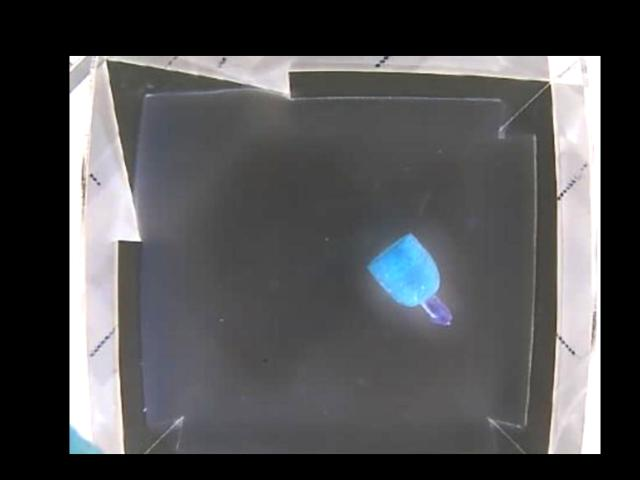Carrot: (371, 233, 454, 327)
